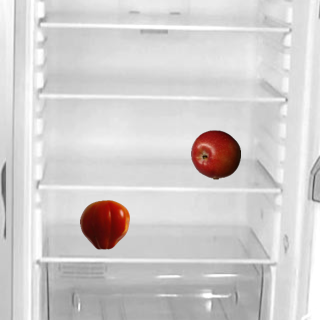Apple Braeburn: (190, 129, 240, 179)
Tomato 1: (79, 199, 129, 249)
